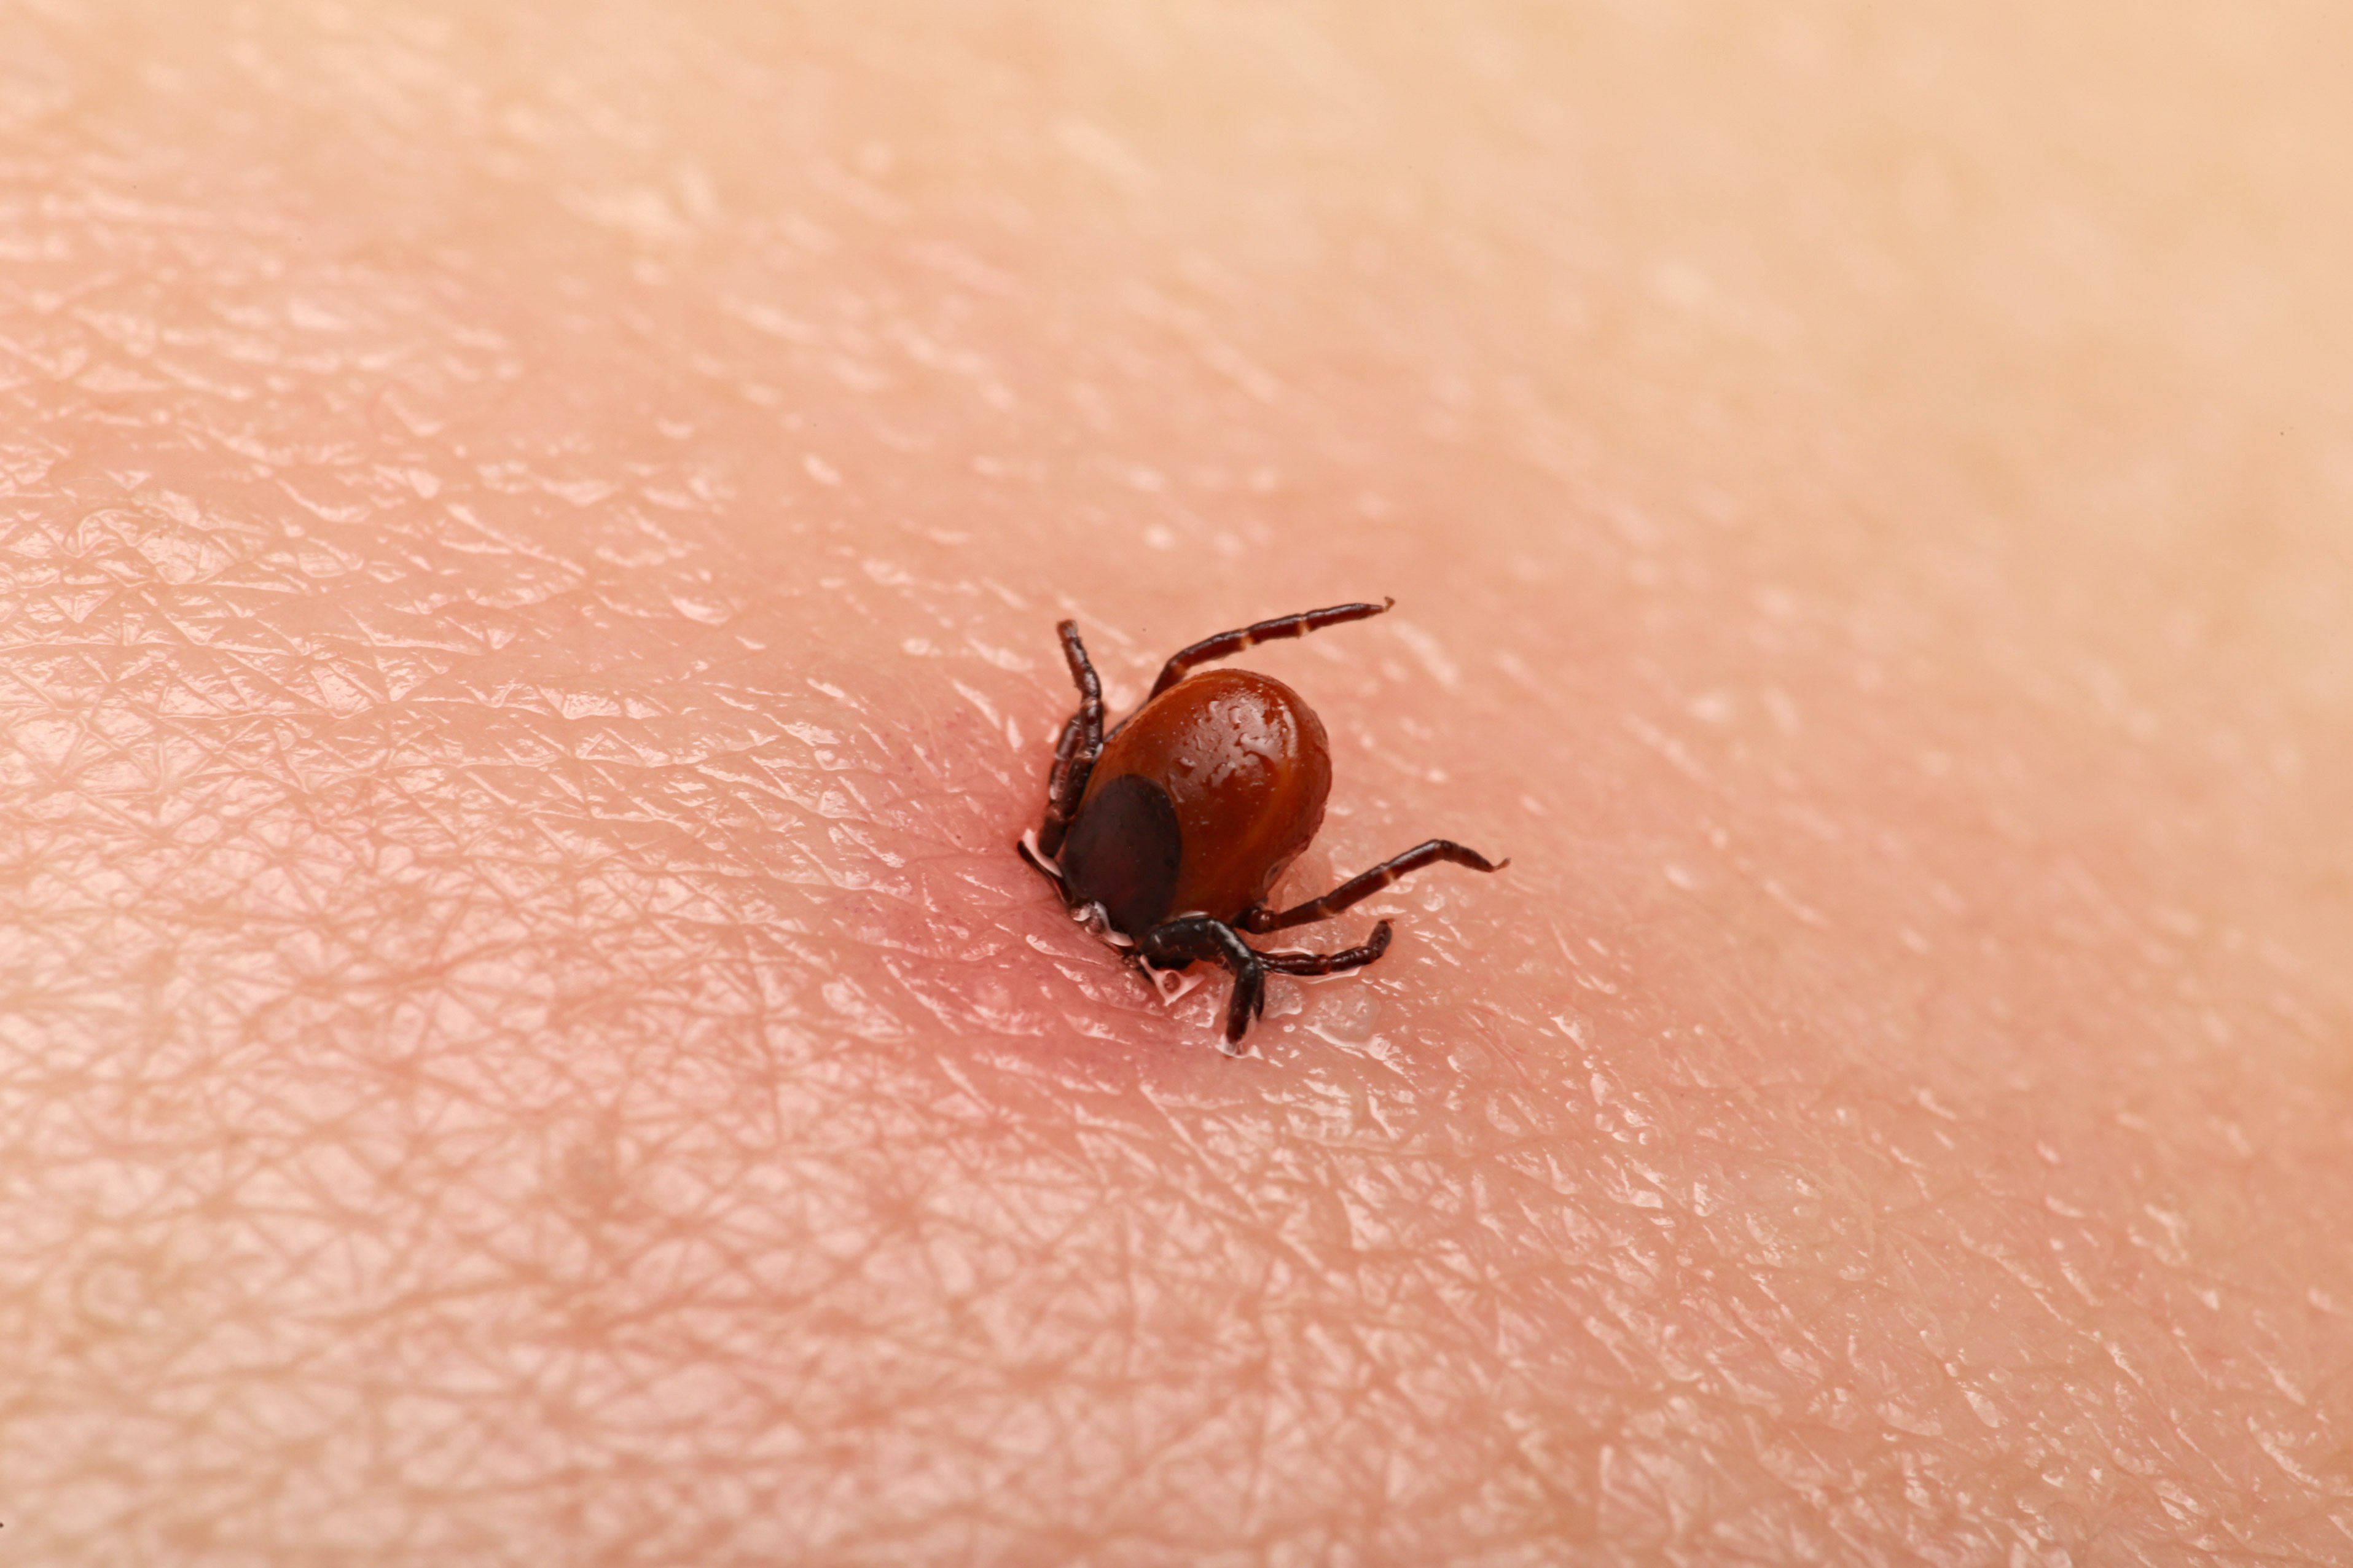unlabelled_tick: (992, 568, 1526, 1062)
